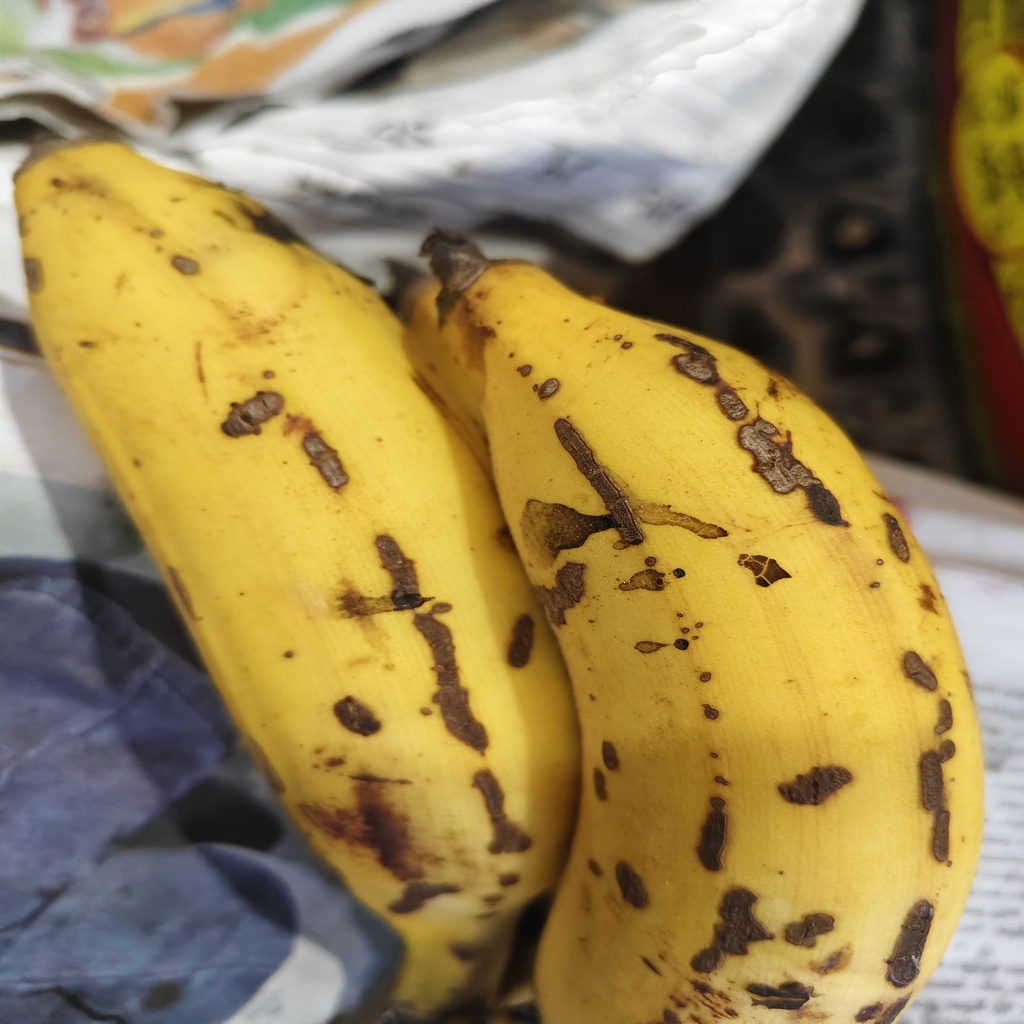unhealthy: (14, 149, 582, 924), (425, 239, 980, 1022)
